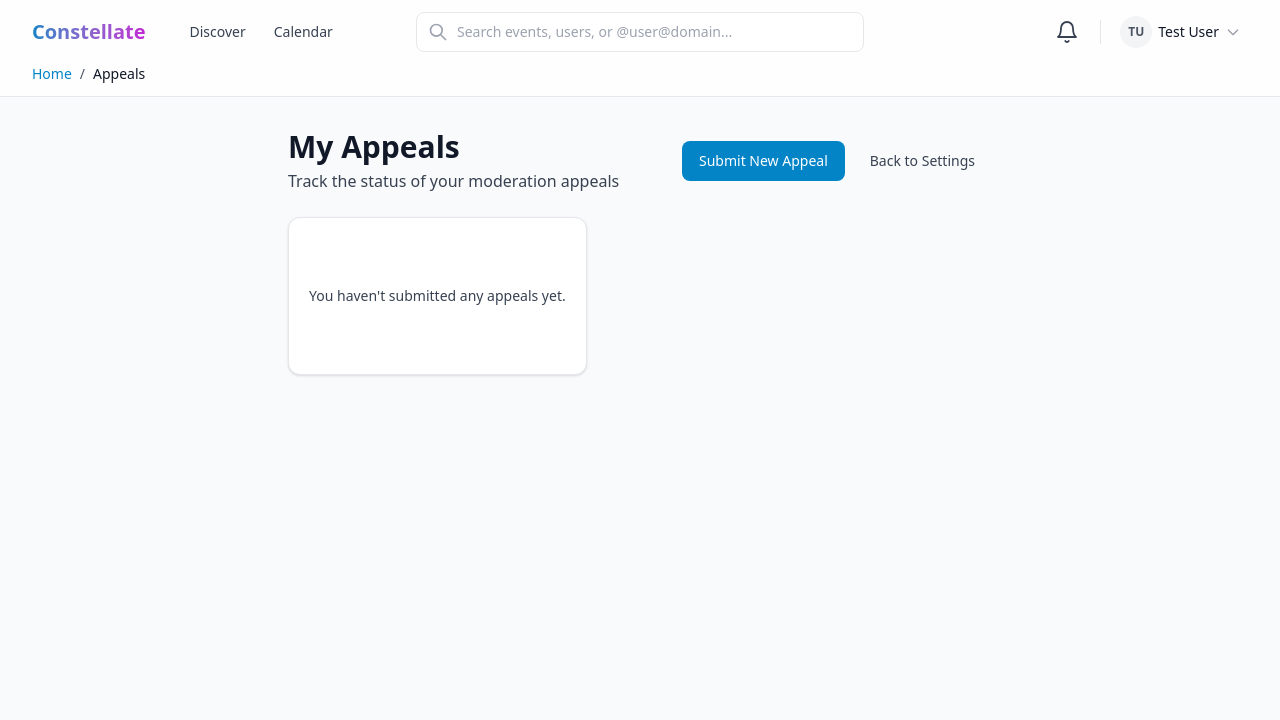
Scenario: AppealsPage › should open appeal modal when "Submit New Appeal" button is clicked
Click the button "Submit New Appeal" at (763, 161), box [682,141,845,181]
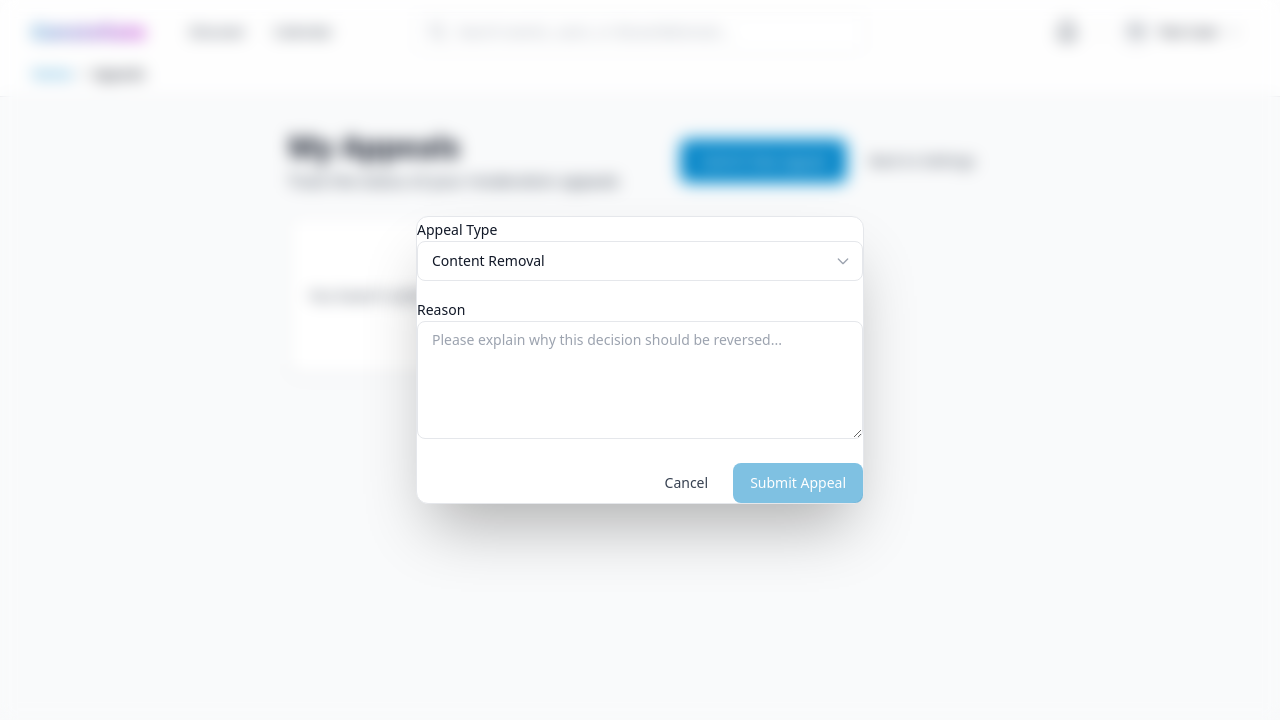
Check: the text "Submit Appeal" is shown, box [750,473,846,493]
